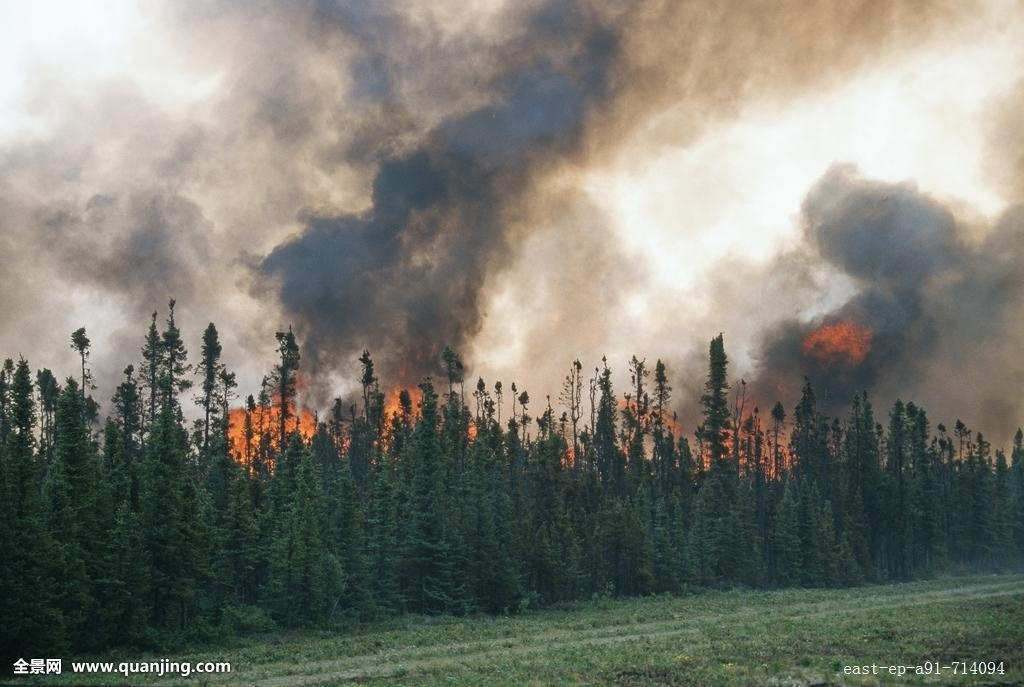fire: (612, 386, 802, 474), (225, 393, 318, 471), (380, 381, 430, 443), (809, 319, 868, 355)
